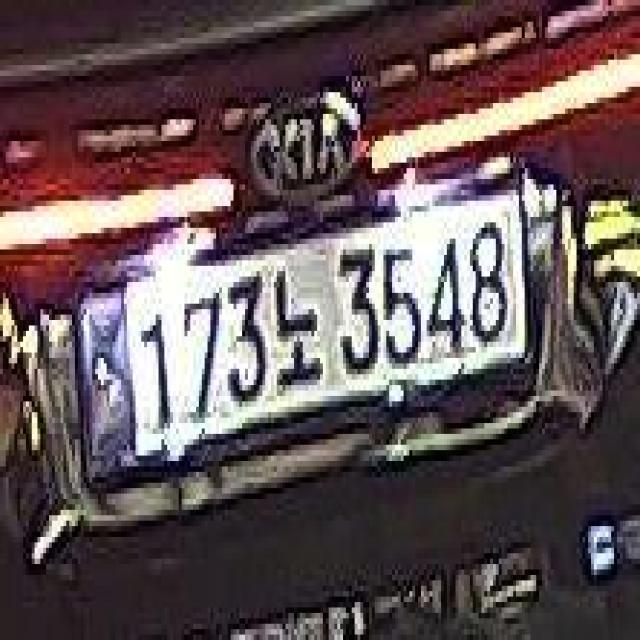illegal_plate: (62, 171, 536, 489)
